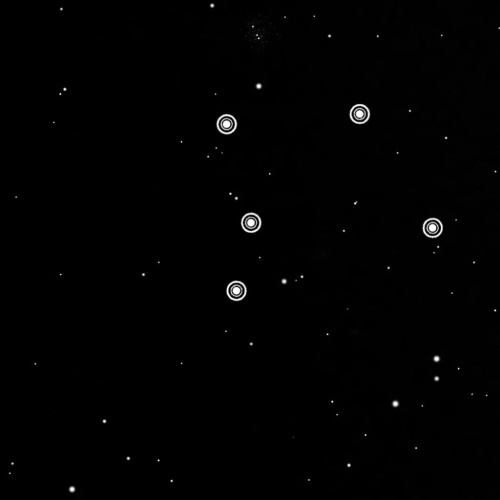libra: (209, 98, 450, 308)
